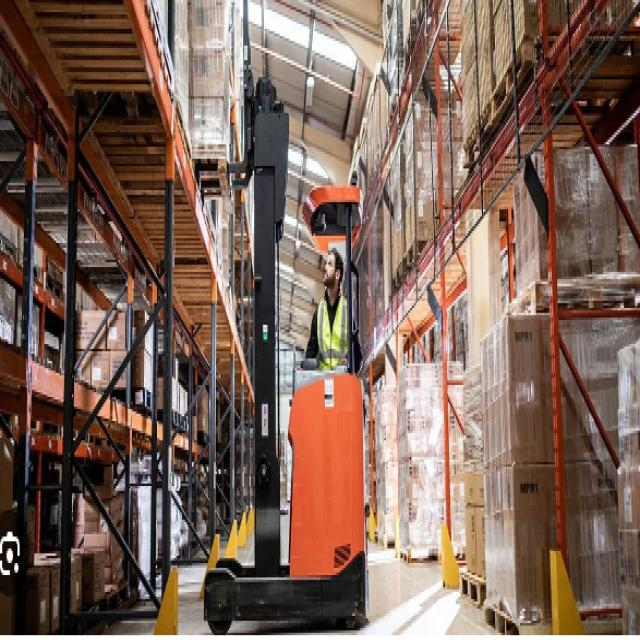vest: (317, 294, 353, 376)
